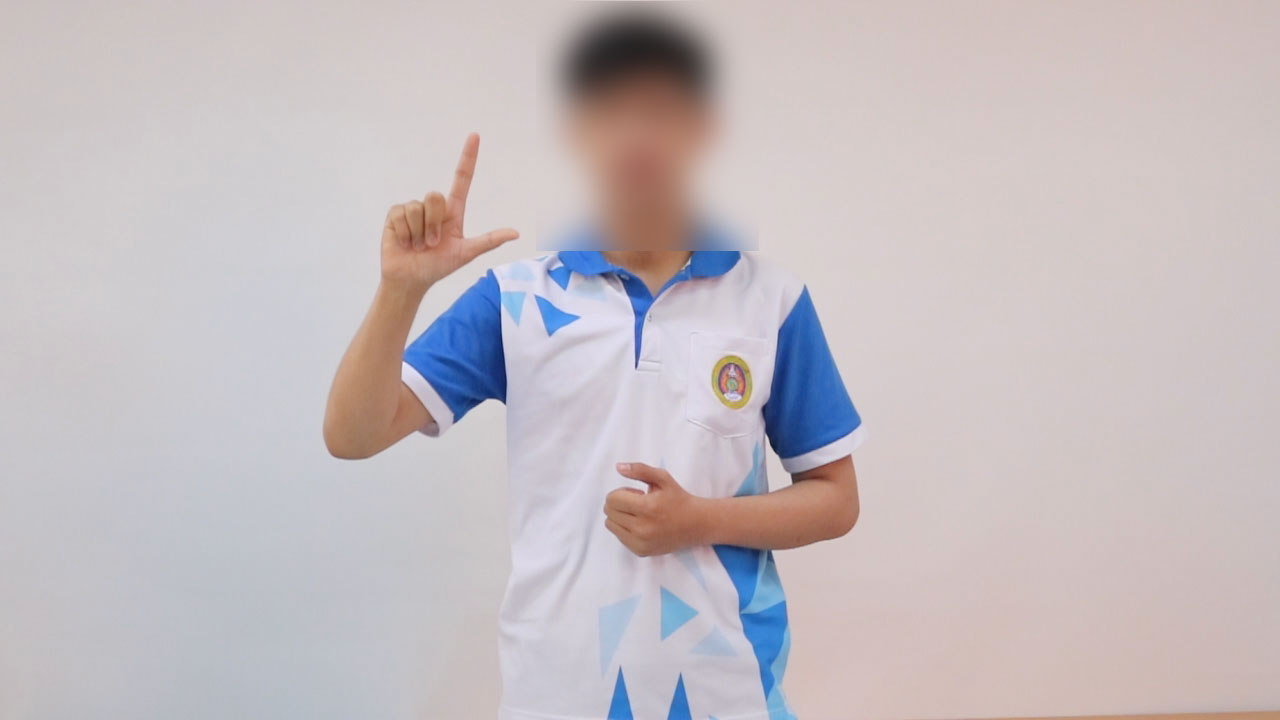lor: (372, 116, 531, 296)
